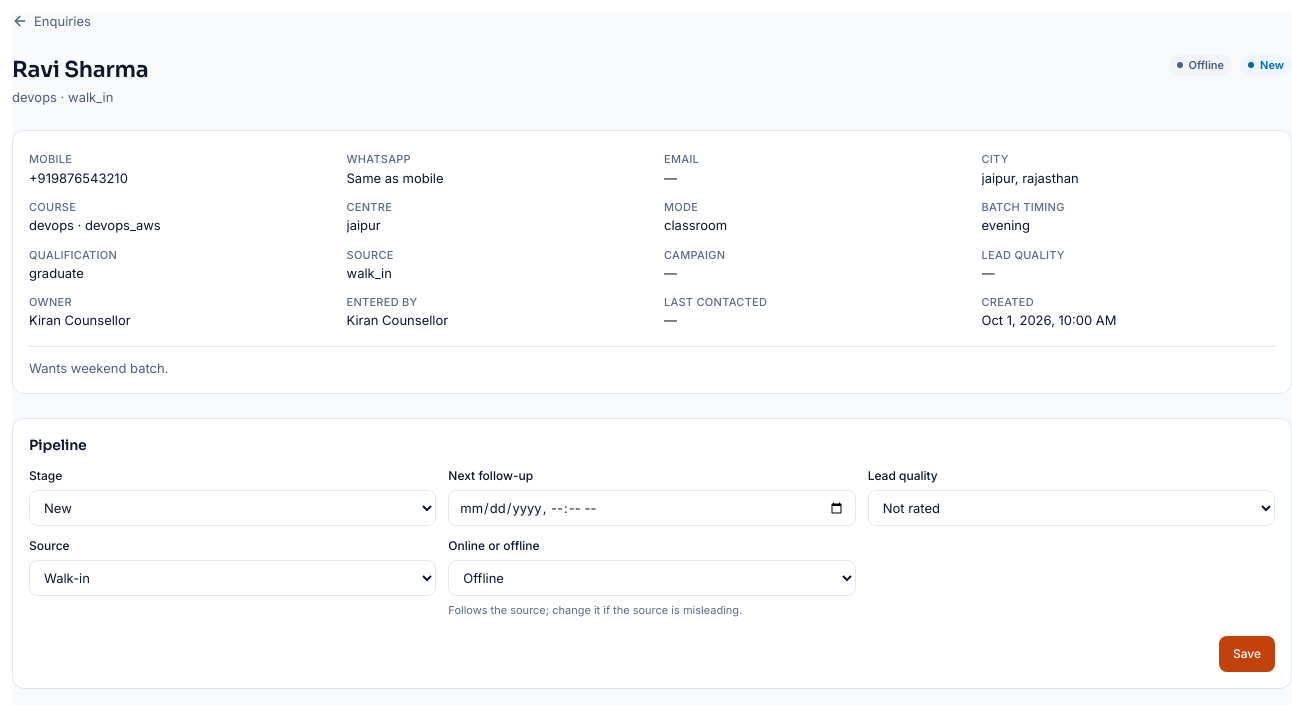
Test: EnquiryScreen › shows the enquiry and saves a stage change
Check: the heading "Ravi Sharma" is shown, box x1=12 y1=55 x2=148 y2=84
Check: the text "Wants weekend batch." is shown, box x1=29 y1=346 x2=1275 y2=378
Select "Interested" in the dropdown labelled "Stage" at [233, 508], box x1=29 y1=490 x2=436 y2=526
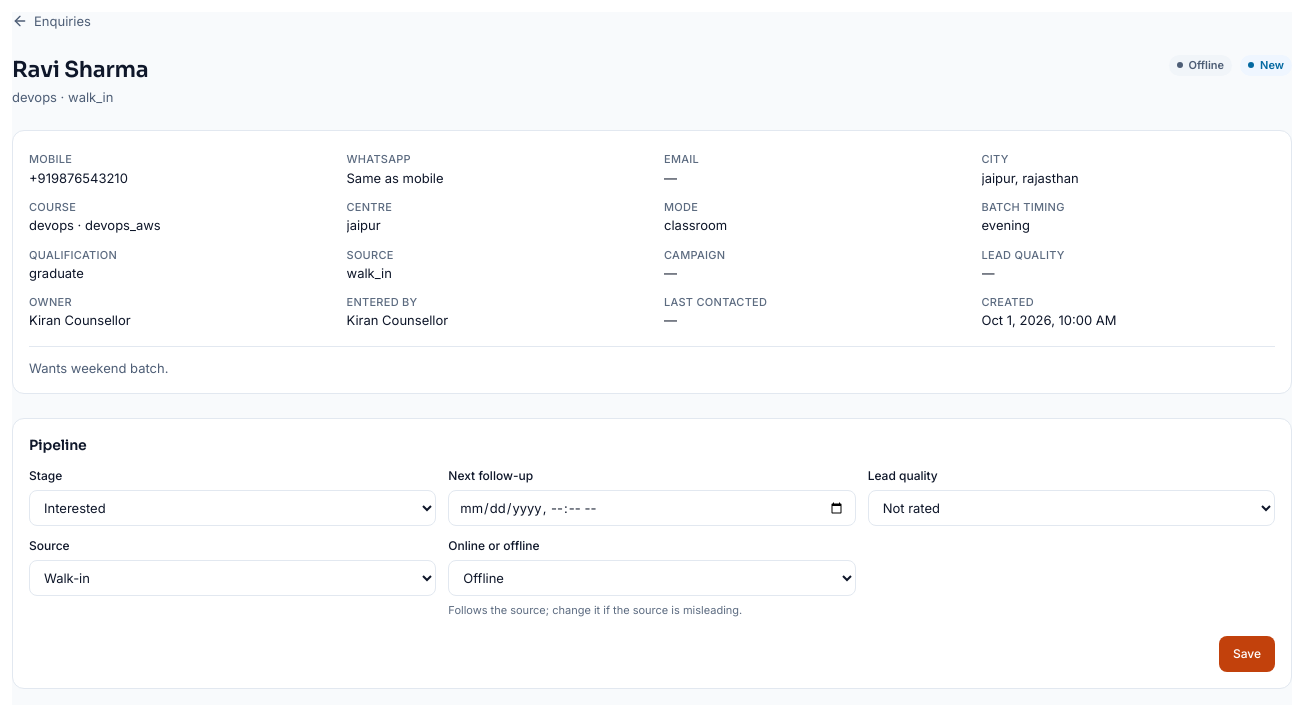
Click the button "Save" at [1247, 654], box x1=1219 y1=636 x2=1275 y2=672
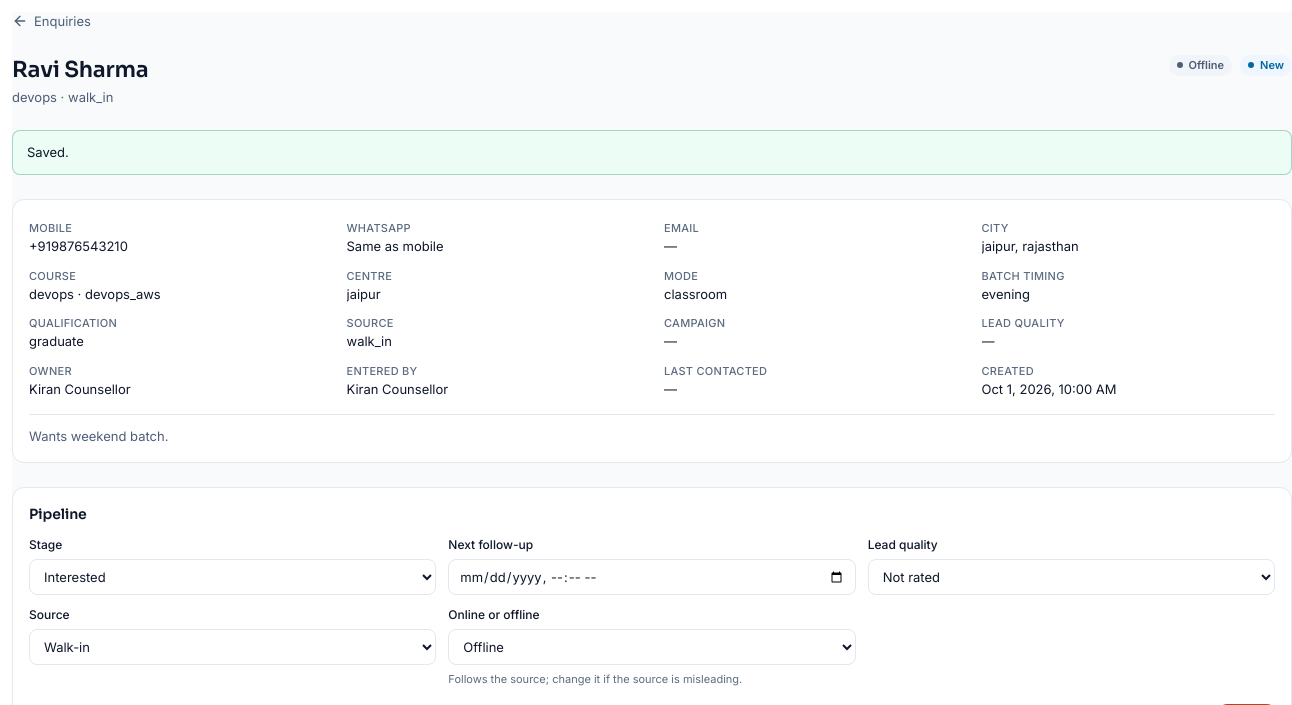
Check: the text "Saved." is shown, box x1=12 y1=130 x2=1291 y2=175
